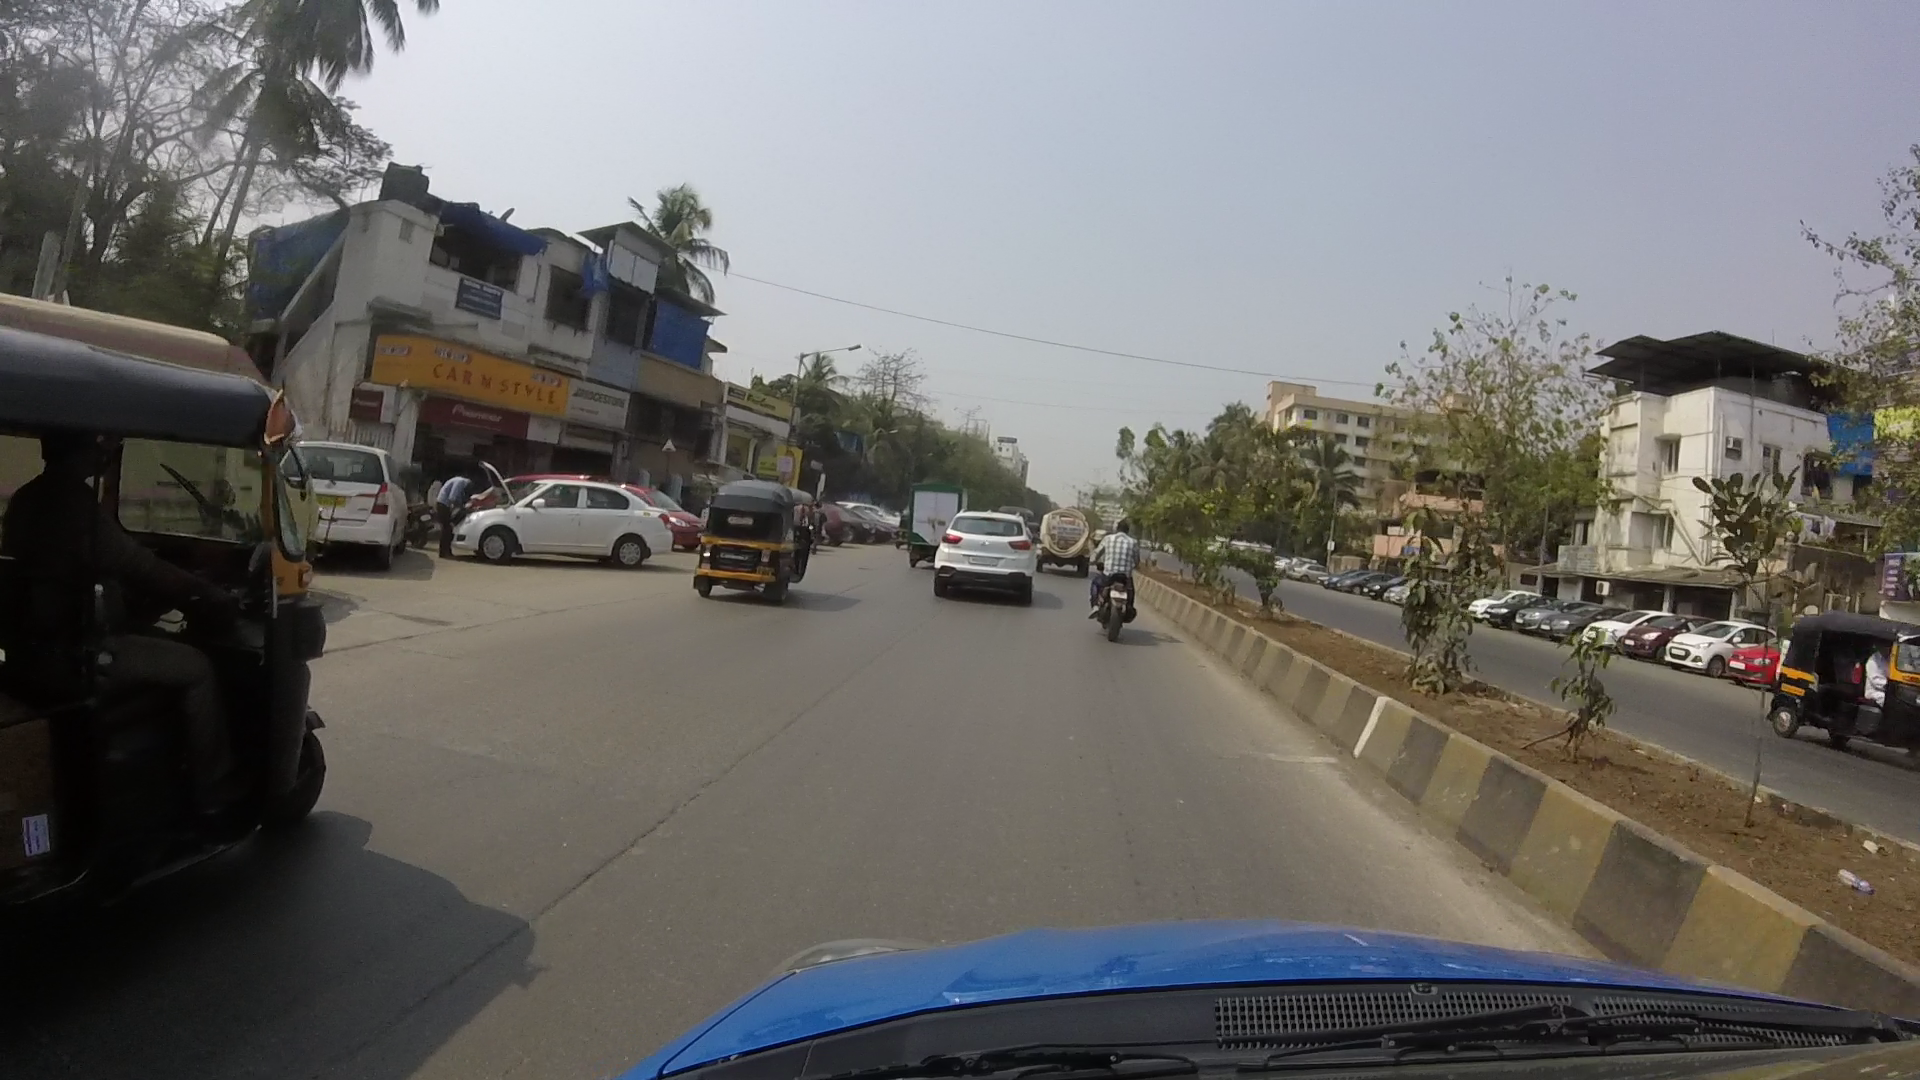bike/scooter: (1093, 522, 1153, 645)
car: (448, 473, 666, 566), (922, 506, 1043, 604), (299, 444, 400, 560)
rickshaw: (13, 336, 331, 857), (1772, 611, 1908, 742), (687, 480, 828, 597)
